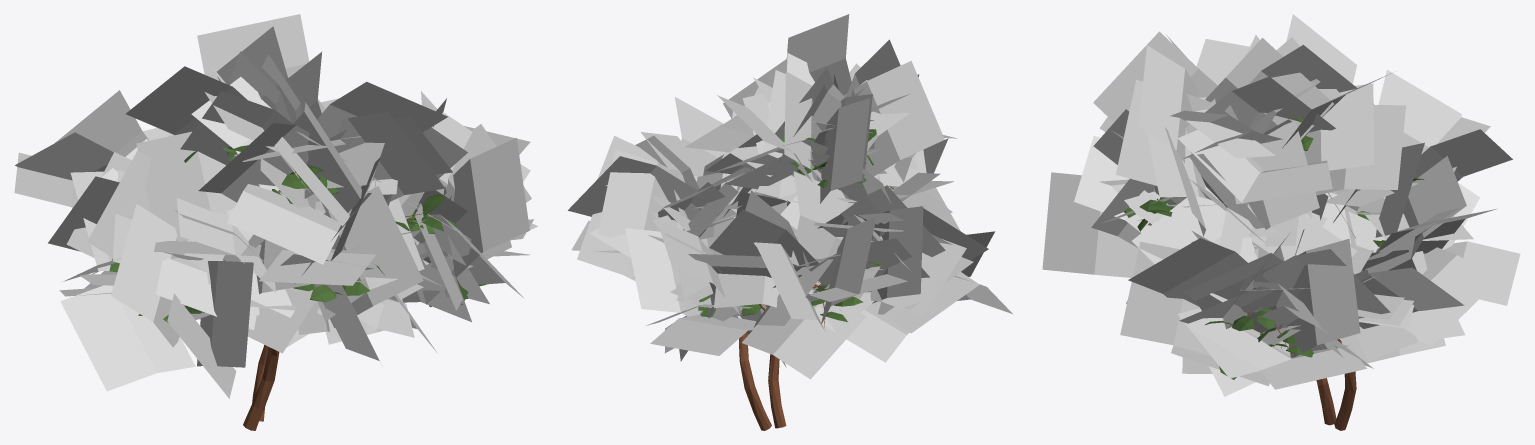
Rendered from Arbousier_Jeune_LOD1.fbx.
3 renders of one model, left to right at view 1: azimuth 30°, elevation 25°; view 2: azimuth 150°, elevation 25°; view 3: azimuth 270°, elevation 25°, orthographic. The views are drawn at different scales.
Visible parts, largest first — view 1: Arbousier_Jeune_LOD1; view 2: Arbousier_Jeune_LOD1; view 3: Arbousier_Jeune_LOD1.
Boxes of the visible parts, x1,y1,x2,y2 form: Arbousier_Jeune_LOD1: [14, 14, 537, 430]; Arbousier_Jeune_LOD1: [568, 14, 1012, 430]; Arbousier_Jeune_LOD1: [1042, 14, 1520, 430].
Size of the model in its own units: 283 by 236 by 265.
